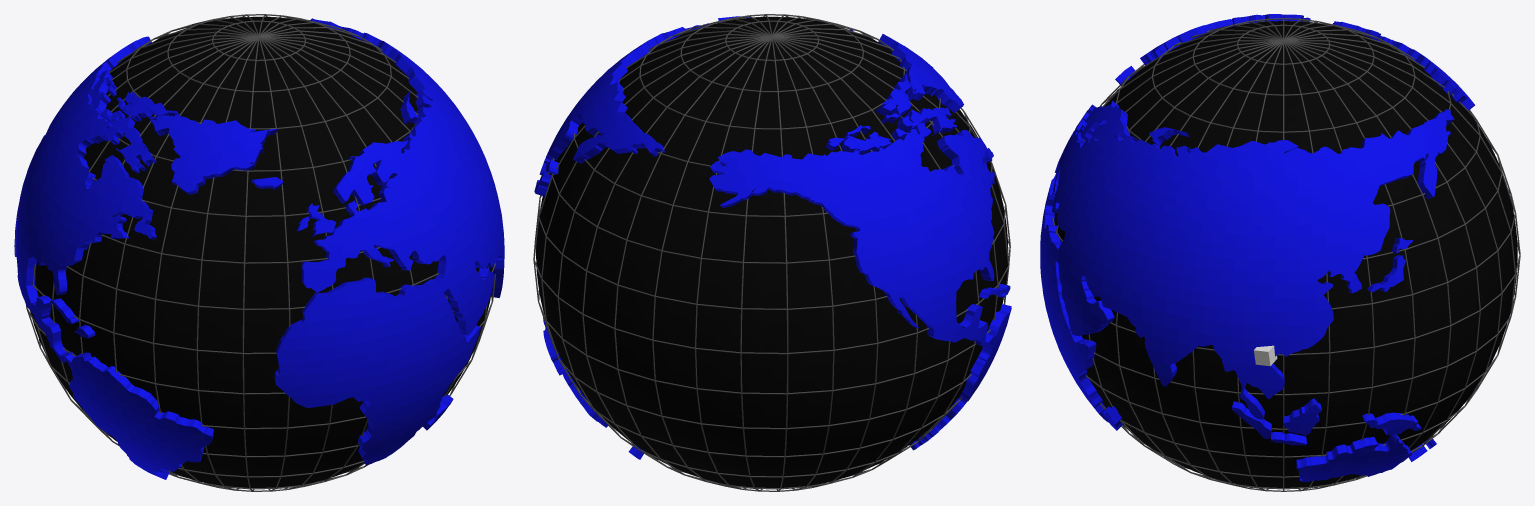
File: animate.glb
3 views of the same model, side by side, from view 1: azimuth 30°, elevation 25°; view 2: azimuth 150°, elevation 25°; view 3: azimuth 270°, elevation 25° (orthographic).
Parts seen in each view (by area): view 1: Icosphere, Map, Sphere wire; view 2: Icosphere, Map, Sphere wire; view 3: Icosphere, Map, Sphere wire.
Boxes of the visible parts, x1,y1,x2,y2 form: Icosphere: [30, 17, 493, 487]; Map: [14, 17, 504, 479]; Sphere wire: [26, 14, 495, 491]; Icosphere: [536, 17, 1008, 487]; Map: [534, 16, 1011, 459]; Sphere wire: [533, 14, 1010, 491]; Icosphere: [1054, 21, 1517, 487]; Map: [1040, 14, 1474, 481]; Sphere wire: [1052, 18, 1520, 491].
Bounding box in the file's own units: 2.13 × 2.03 × 2.05.
